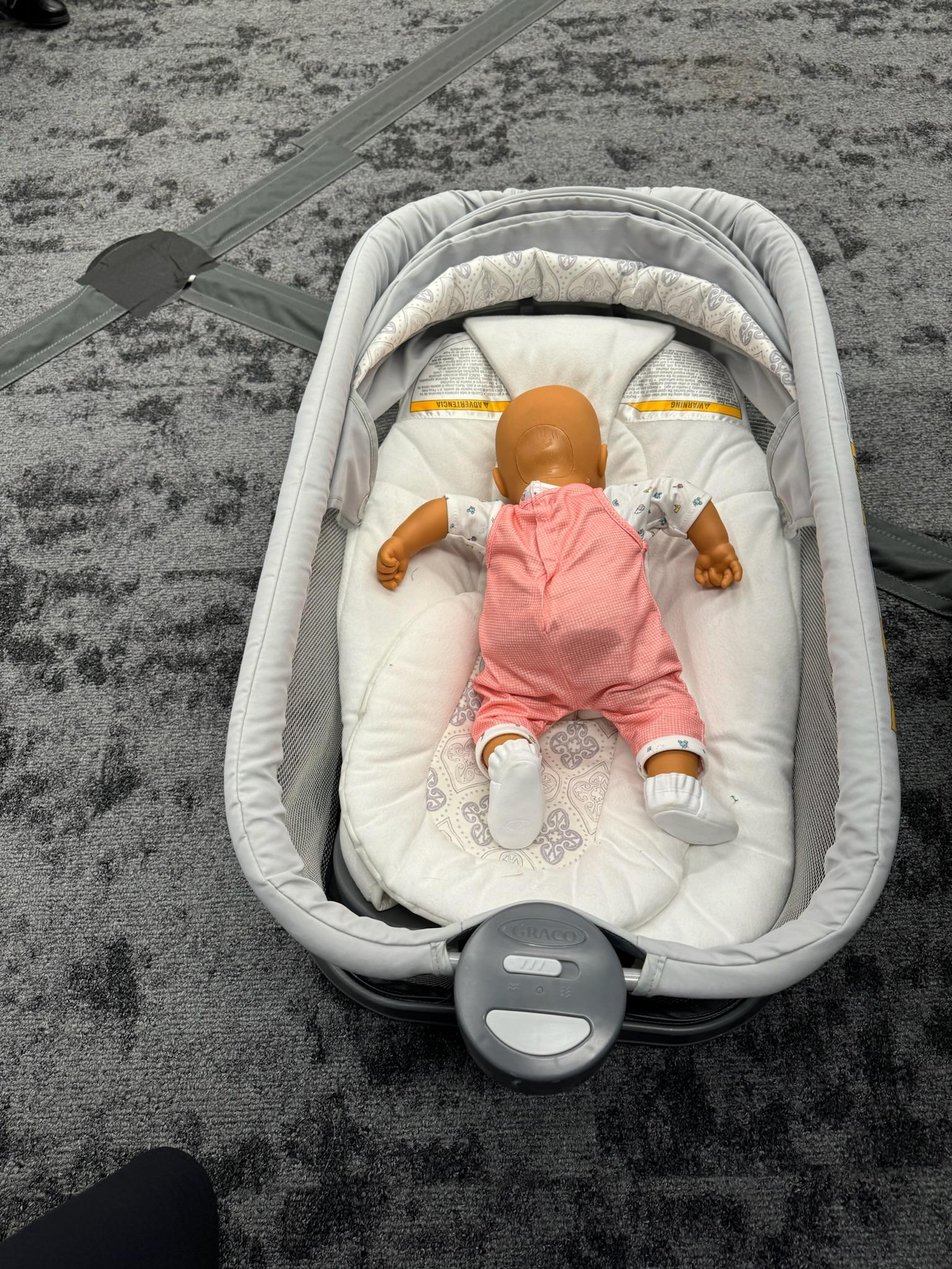baby: (393, 382, 747, 841)
